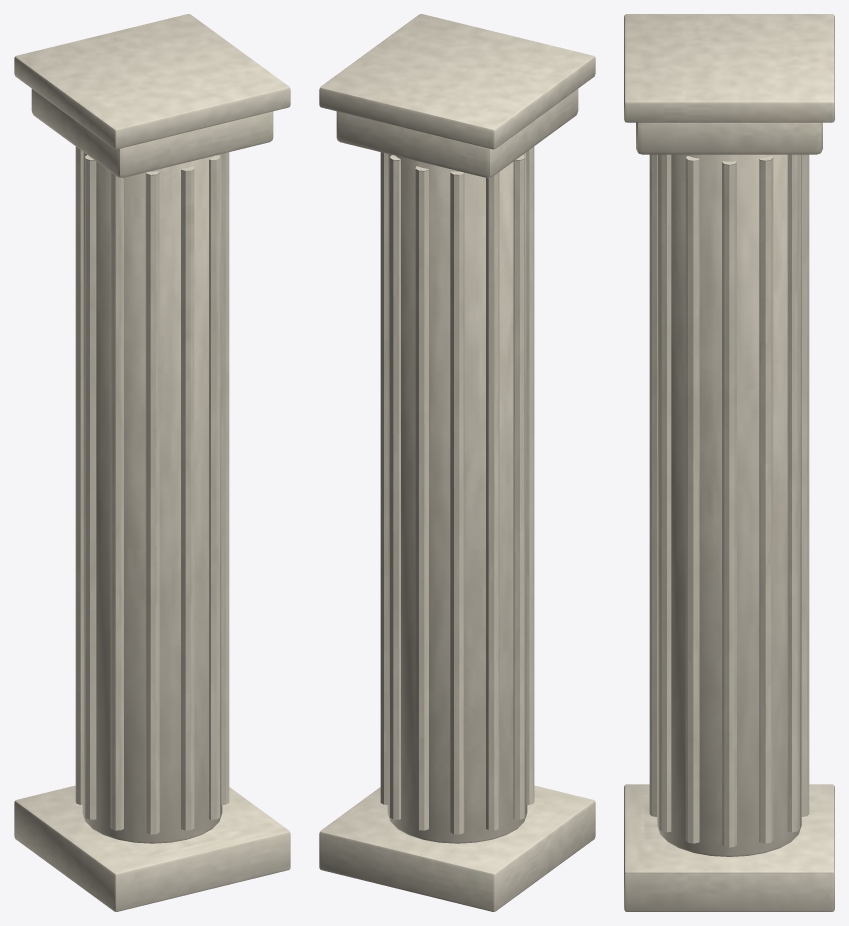
Rendered from column.glb.
3 views of the same model, side by side, from view 1: azimuth 30°, elevation 25°; view 2: azimuth 150°, elevation 25°; view 3: azimuth 270°, elevation 25° (orthographic). The views are drawn at different scales.
Visible parts, largest first — view 1: shaft, abacus, plinth, flute8, flute9, flute7, flute6, flute10, capital, flute5, flute11; view 2: shaft, abacus, plinth, flute4, flute3, flute5, flute6, flute2, capital, flute7, flute1; view 3: shaft, abacus, plinth, flute0, flute1, flute11, flute2, flute10, capital, flute3, flute9.
Part boxes in pixels (x1,y1,x2,y2): shaft: (82, 152, 222, 843); abacus: (14, 14, 290, 149); plinth: (14, 785, 290, 911); flute8: (145, 171, 159, 834); flute9: (181, 166, 194, 830); flute7: (110, 172, 123, 830); flute6: (85, 155, 96, 819); flute10: (209, 155, 219, 819); capital: (31, 89, 273, 177); flute5: (75, 146, 83, 804); flute11: (221, 152, 229, 804); shaft: (387, 152, 527, 843); abacus: (319, 14, 595, 149); plinth: (319, 785, 595, 911); flute4: (450, 171, 464, 834); flute3: (415, 166, 428, 830); flute5: (486, 172, 499, 830); flute6: (513, 155, 524, 819); flute2: (390, 155, 400, 819); capital: (336, 89, 578, 177); flute7: (526, 146, 534, 804); flute1: (380, 152, 388, 804); shaft: (657, 154, 801, 856); abacus: (624, 14, 834, 122); plinth: (624, 784, 834, 911); flute0: (722, 161, 736, 847); flute1: (759, 156, 773, 843); flute11: (685, 156, 699, 843); flute2: (787, 154, 799, 832); flute10: (659, 154, 671, 832); capital: (636, 122, 822, 154); flute3: (801, 154, 809, 816); flute9: (649, 154, 657, 816).
Size of the model in its own units: 0.7 by 2.97 by 0.7.
Materials: 1 (1 with a texture image).
